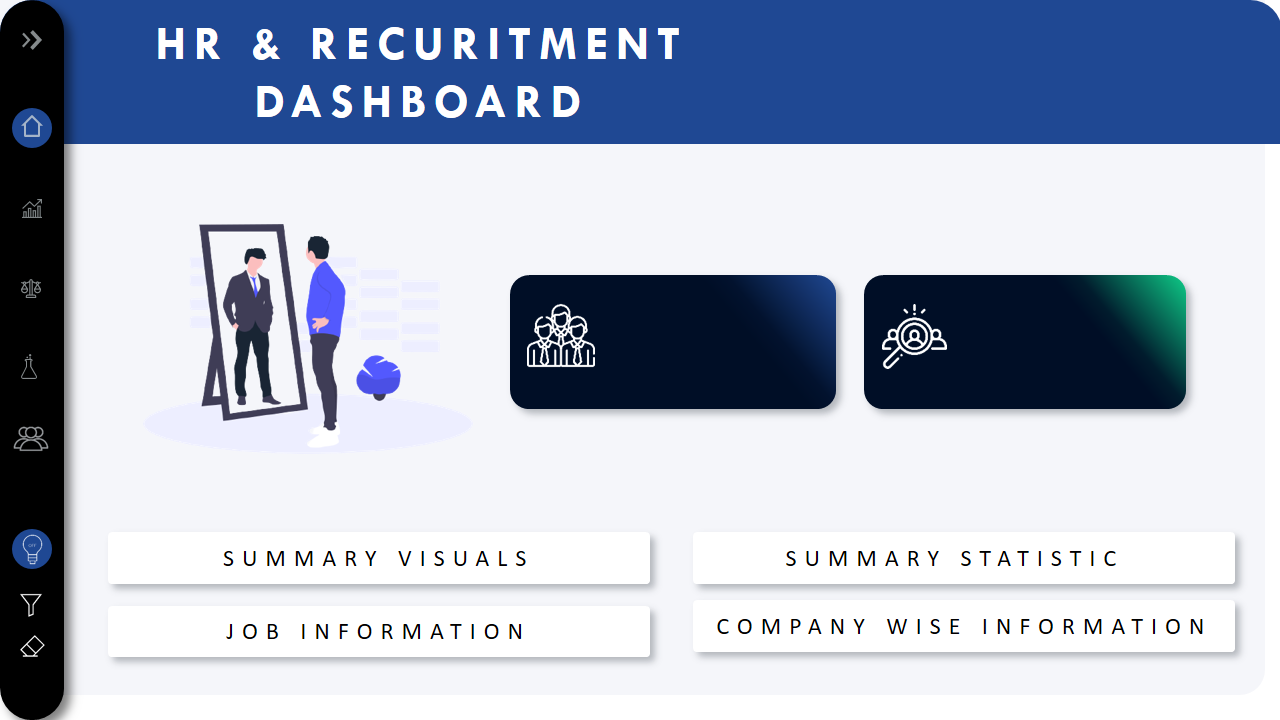

This screenshot's page, from the dashboard's own definition file:
{"tool":"powerbi","page":{"name":"Duplicate of Home (D)","canvas":[1280,720],"ordinal":1},"visuals":[{"type":"actionButton","box":[83.8,615.3,359.8,64.5],"z":0},{"type":"actionButton","box":[497.2,615.3,362.6,64.5],"z":1000},{"type":"card","title":"No. of Job Titles","fields":{"Values":["CountNonNull(Final.Job Title)"]},"box":[608.4,285.7,200.5,101.6],"z":2000},{"type":"card","title":"No. of Companies","fields":{"Values":["Count(Final.Company)"]},"box":[965.5,285.7,200.5,101.6],"z":3000},{"type":"actionButton","box":[0,187.8,67.9,40.5],"z":4000},{"type":"actionButton","box":[0,265.8,67.9,40.5],"z":5000},{"type":"actionButton","box":[0,339.5,67.9,40.5],"z":6000},{"type":"actionButton","box":[0,525.9,57.8,40.5],"z":7000},{"type":"actionButton","box":[0,339.5,60.7,50.6],"z":8000},{"type":"actionButton","box":[1.4,182,60.7,50.6],"z":9000},{"type":"actionButton","box":[2.9,261.5,60.7,50.6],"z":10000},{"type":"actionButton","box":[2.9,525.9,60.7,50.6],"z":11000},{"type":"actionButton","box":[114.1,525.9,536,60.7],"z":12000},{"type":"actionButton","box":[114.1,602.4,536,60.7],"z":13000},{"type":"actionButton","box":[697.8,525.9,536,60.7],"z":14000},{"type":"actionButton","box":[696.3,602.4,536,60.7],"z":15000}]}

Visuals, with their boxes on the page's 1280x720 design canvas (x1, y1, x2, y2). These are canvas units, not pixel positions in the 1280x720 screenshot, which may show the page scaled, cropped or inside an application window:
actionButton: bbox=[84, 615, 444, 680]
actionButton: bbox=[497, 615, 860, 680]
"No. of Job Titles" card: bbox=[608, 286, 809, 387]
"No. of Companies" card: bbox=[966, 286, 1166, 387]
actionButton: bbox=[0, 188, 68, 228]
actionButton: bbox=[0, 266, 68, 306]
actionButton: bbox=[0, 340, 68, 380]
actionButton: bbox=[0, 526, 58, 566]
actionButton: bbox=[0, 340, 61, 390]
actionButton: bbox=[1, 182, 62, 233]
actionButton: bbox=[3, 262, 64, 312]
actionButton: bbox=[3, 526, 64, 576]
actionButton: bbox=[114, 526, 650, 587]
actionButton: bbox=[114, 602, 650, 663]
actionButton: bbox=[698, 526, 1234, 587]
actionButton: bbox=[696, 602, 1232, 663]
